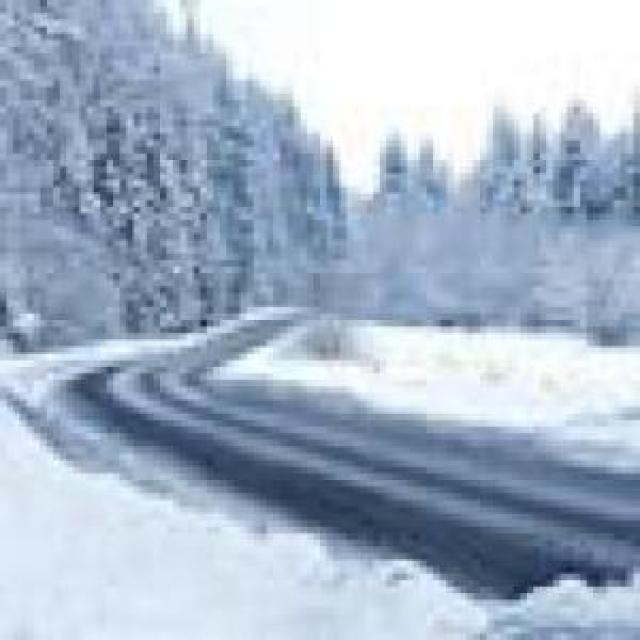ice-road: (79, 319, 640, 606)
